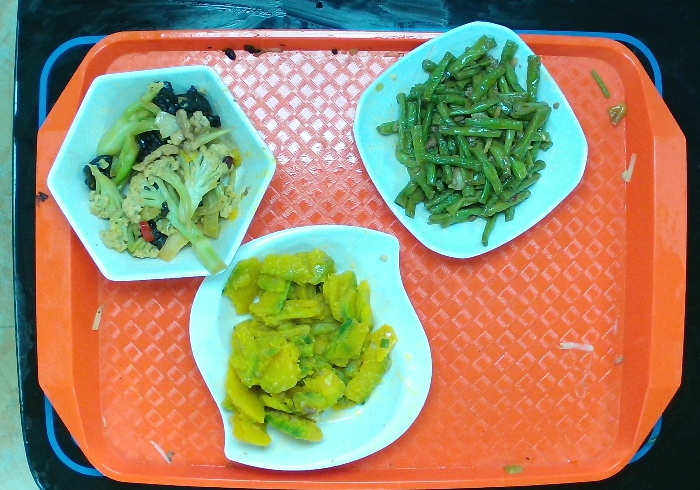RJxy-Liu_Jiao_Wan: (44, 62, 280, 288)
RJxy-Shuang_Jiao_Pan: (186, 222, 435, 475)
RJxy-Si_Fang_Wan: (346, 18, 592, 268)
